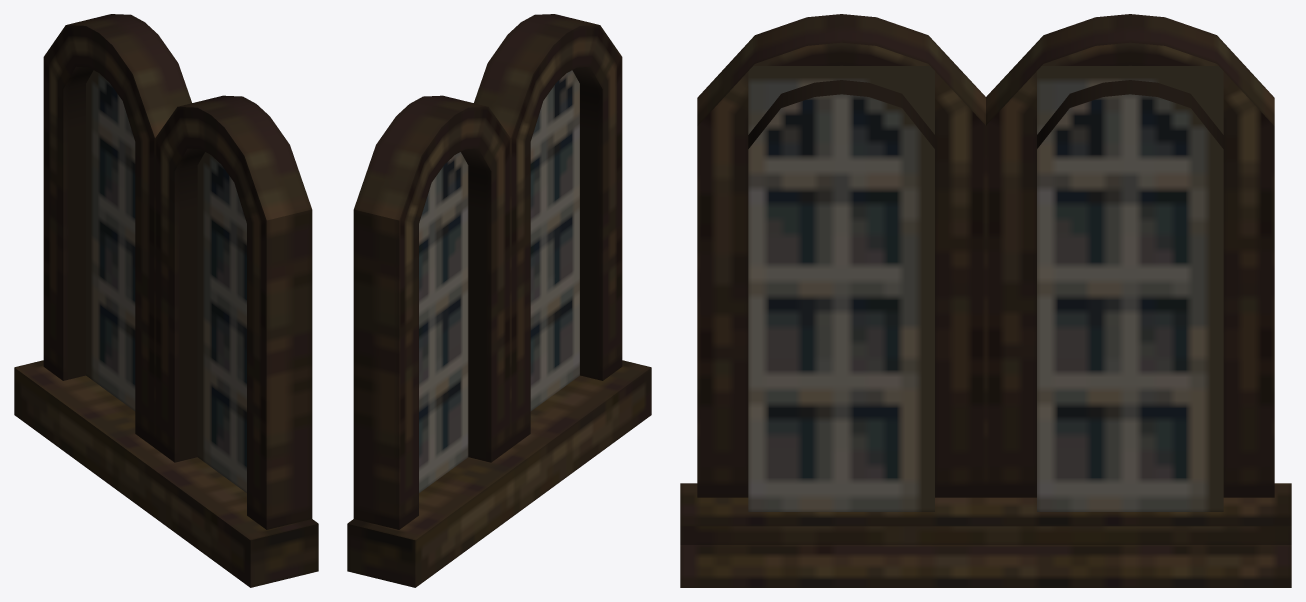
The model's file is EnvBdgMD_Snow_Mansion_A_Indoor_Window_B.FBX.
3 views of the same model, side by side, from view 1: azimuth 30°, elevation 25°; view 2: azimuth 150°, elevation 25°; view 3: azimuth 270°, elevation 25° (orthographic). The views are drawn at different scales.
Visible parts, largest first — view 1: EnvBdgMD_Snow_Mansion_A_Indoor_Window_B; view 2: EnvBdgMD_Snow_Mansion_A_Indoor_Window_B; view 3: EnvBdgMD_Snow_Mansion_A_Indoor_Window_B.
Part boxes in pixels (left/top/right/bottom): EnvBdgMD_Snow_Mansion_A_Indoor_Window_B: left=14, top=14, right=318, bottom=587; EnvBdgMD_Snow_Mansion_A_Indoor_Window_B: left=347, top=14, right=651, bottom=587; EnvBdgMD_Snow_Mansion_A_Indoor_Window_B: left=680, top=14, right=1291, bottom=587.
Bounding box in the file's own units: 30 × 177 × 180.
Materials: 1 (1 with a texture image).
